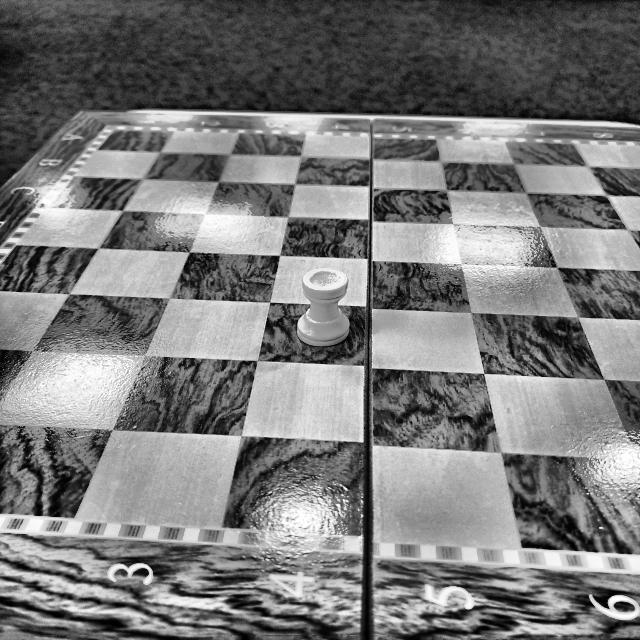white-rook: (296, 268, 353, 347)
